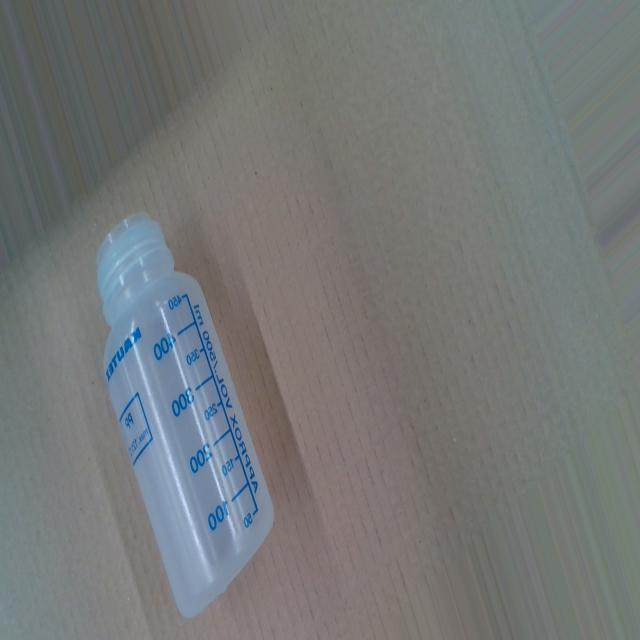bottle: (94, 208, 276, 623)
